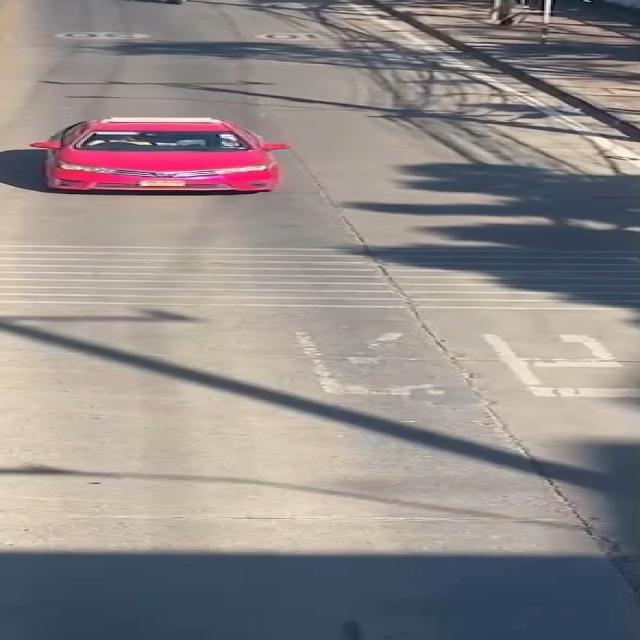car: (0, 106, 342, 208)
